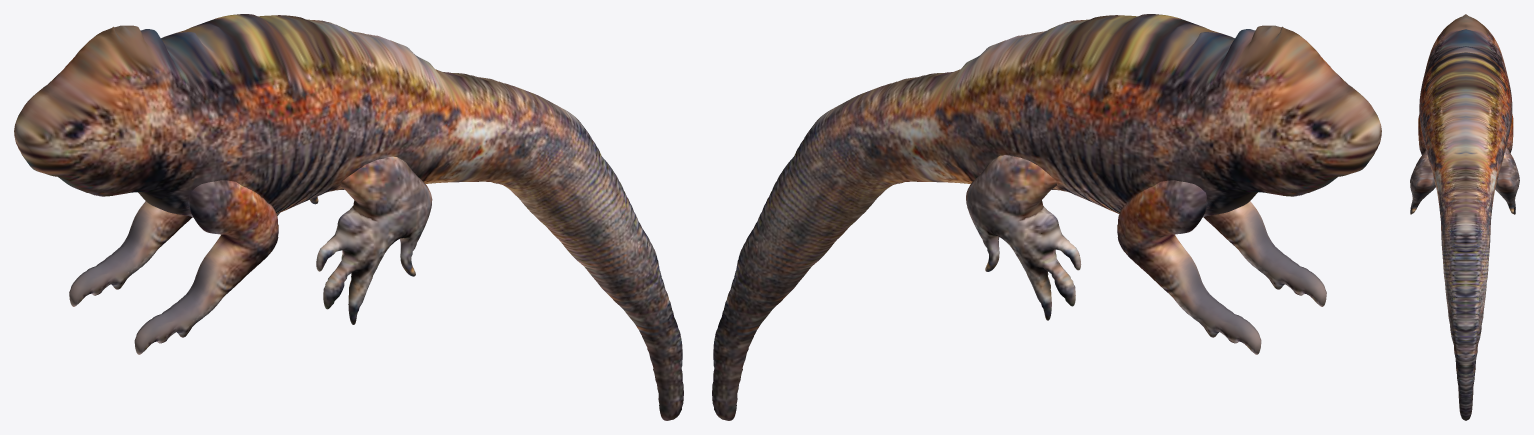
The model's file is marine-iguana.glb.
The picture shows the model from 3 angles, left to right: view 1: azimuth 30°, elevation 25°; view 2: azimuth 150°, elevation 25°; view 3: azimuth 270°, elevation 25°; orthographic projection. The views are drawn at different scales.
Parts seen in each view (by area): view 1: mm_frame (45); view 2: mm_frame (45); view 3: mm_frame (45).
Part boxes in pixels (x1=…): mm_frame (45): x1=14, y1=14, x2=683, y2=420; mm_frame (45): x1=712, y1=14, x2=1381, y2=420; mm_frame (45): x1=1410, y1=14, x2=1519, y2=420.
Size of the model in its own units: 6.35 by 4.83 by 1.79.
Materials: 1 (1 with a texture image).
